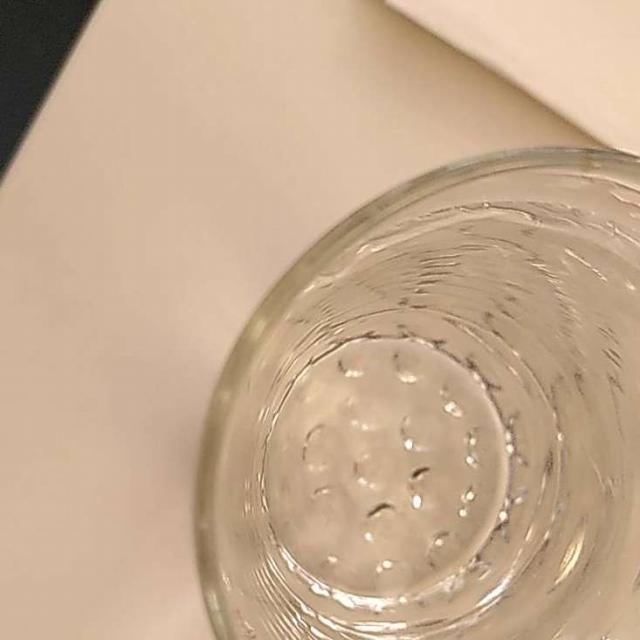water: (252, 229, 636, 637)
